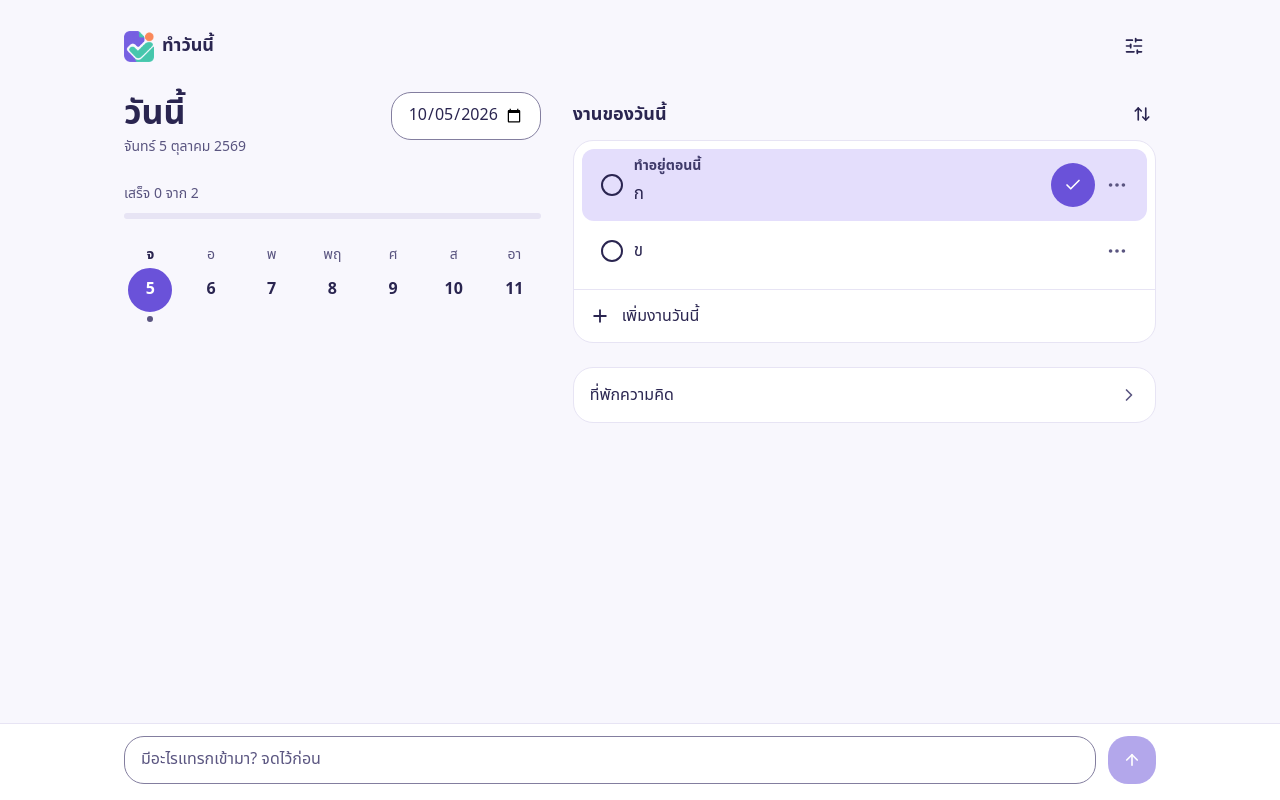
Test: ทำอยู่ตอนนี้ (เฟส 3) › กดเสร็จแล้ว: งานถัดไปขึ้นมาแทน ตัวนับเพิ่ม และเลิกทำได้
Step 1. Click the button named "เสร็จแล้ว: ก" → (1073, 185), box [1051, 163, 1095, 207]
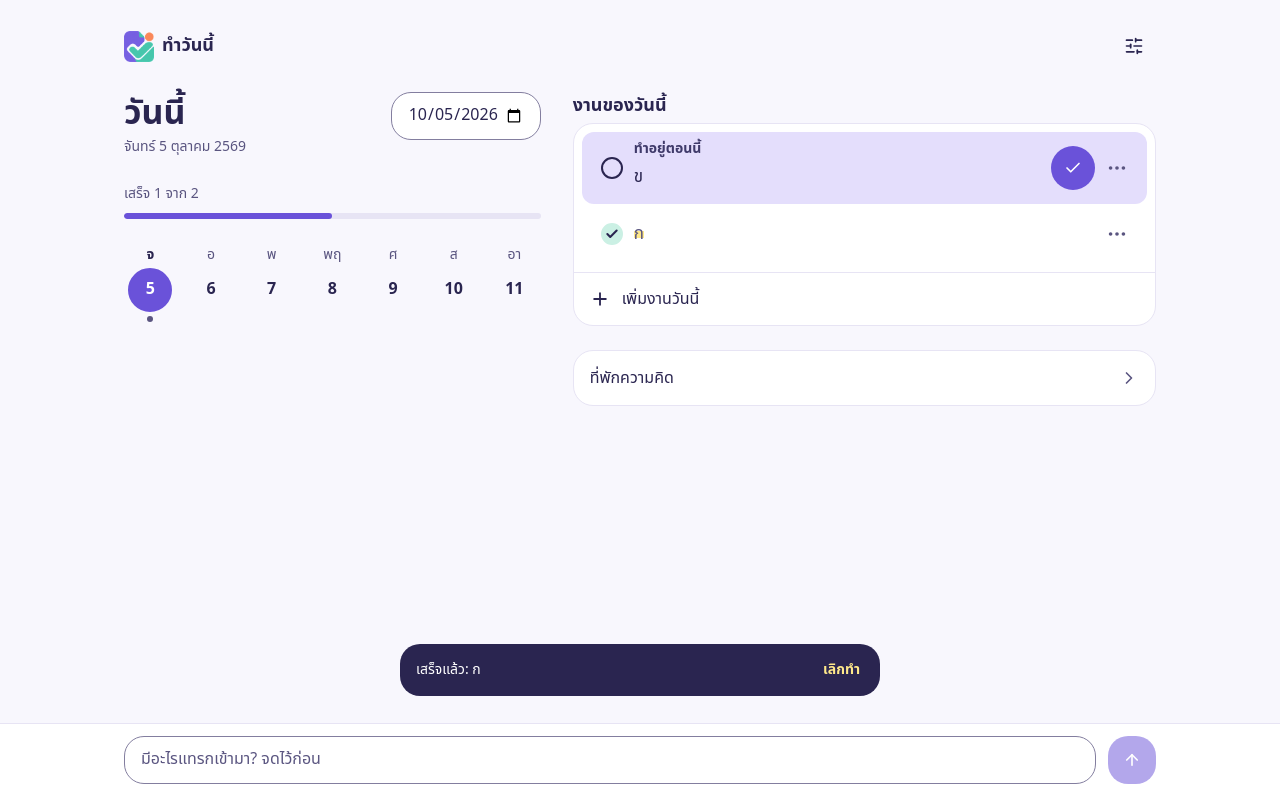
Expected: the list item "ทำอยู่ตอนนี้ ข" is shown, [582, 132, 1147, 204]
Expected: the text "เสร็จ 1 จาก 2" is shown, [124, 183, 199, 204]
Expected: the text "เสร็จแล้ว: ก" is shown, [416, 659, 481, 680]
Step 2. Click the button "เลิกทำ" → (842, 670), box [807, 648, 876, 692]
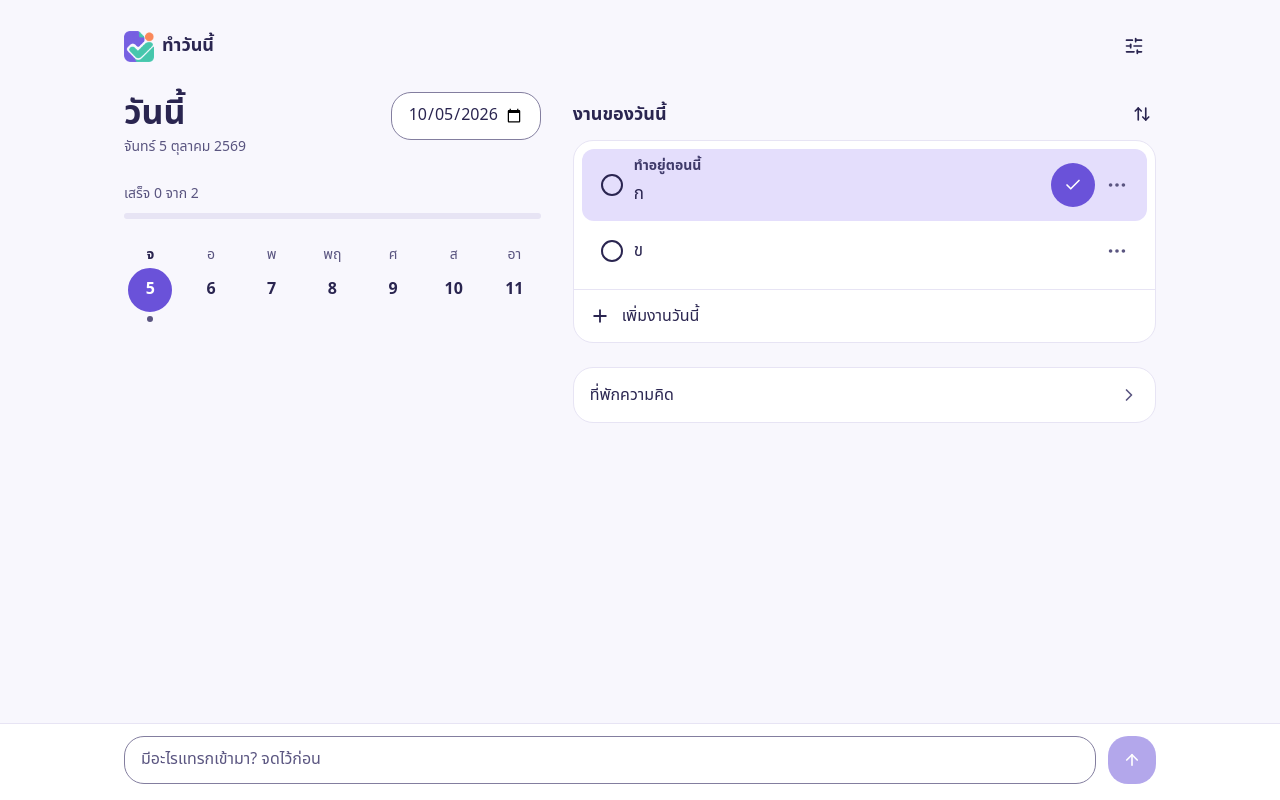
Expected: the list item "ทำอยู่ตอนนี้ ก" is shown, [582, 149, 1147, 221]
Expected: the text "เสร็จ 0 จาก 2" is shown, [124, 183, 199, 204]
